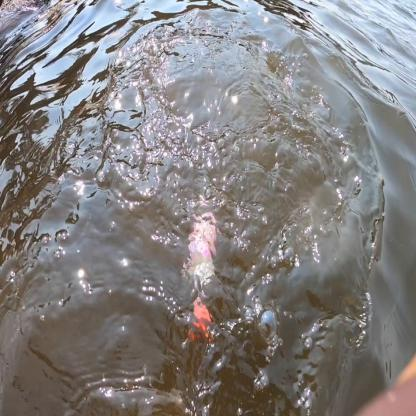Rác: (176, 198, 252, 357)
